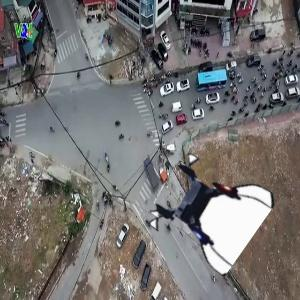drone: (154, 157, 261, 264)
